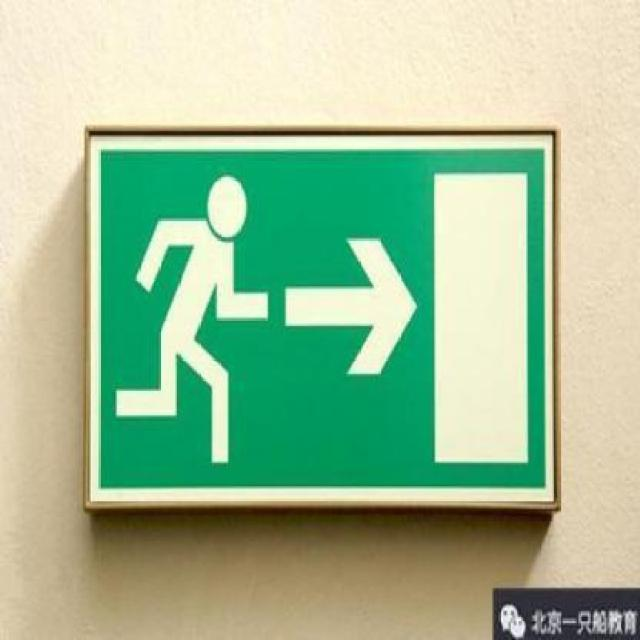exit_sign: (66, 100, 596, 553)
